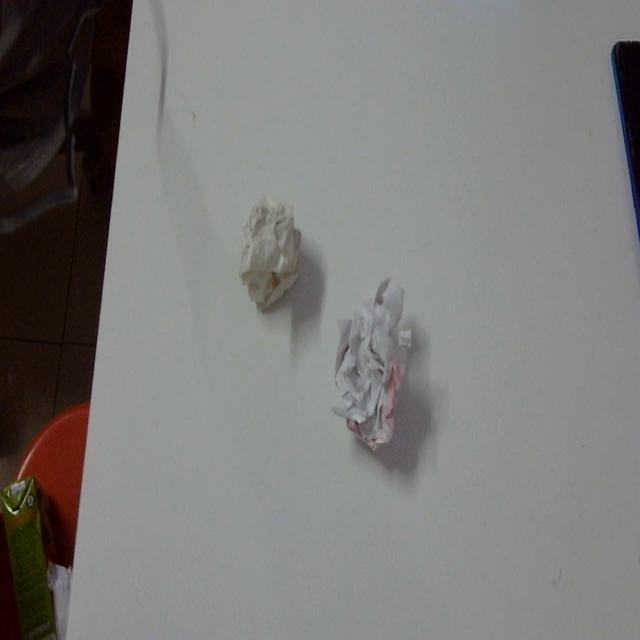paperrotation: (328, 254, 421, 463), (240, 195, 308, 312)
